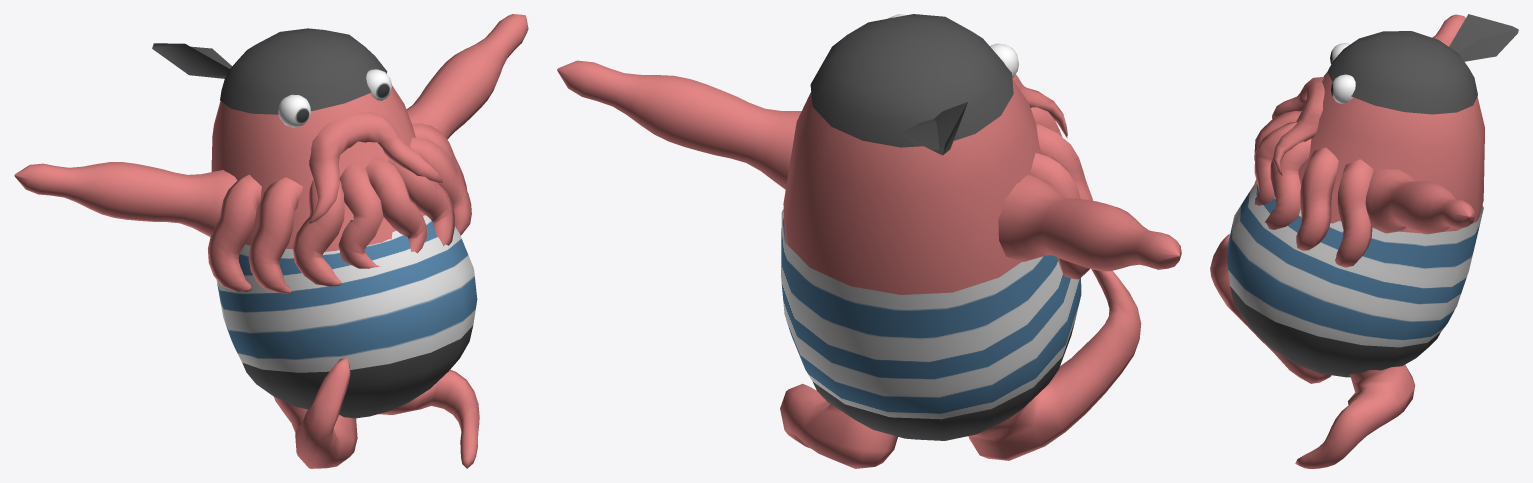
File: tako_P03.fbx
3 views of the same model, side by side, from view 1: azimuth 30°, elevation 25°; view 2: azimuth 150°, elevation 25°; view 3: azimuth 270°, elevation 25° (orthographic). The views are drawn at different scales.
Visible parts, largest first — view 1: tako_P03; view 2: tako_P03; view 3: tako_P03.
Boxes of the visible parts, x1=… form: tako_P03: x1=14, y1=14, x2=528, y2=468; tako_P03: x1=557, y1=14, x2=1181, y2=468; tako_P03: x1=1210, y1=14, x2=1518, y2=468.
Bounding box in the file's own units: 11.14 × 8.62 × 6.35.
Materials: 1 (1 with a texture image).
